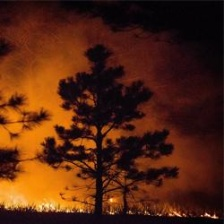fire: (1, 184, 224, 222)
